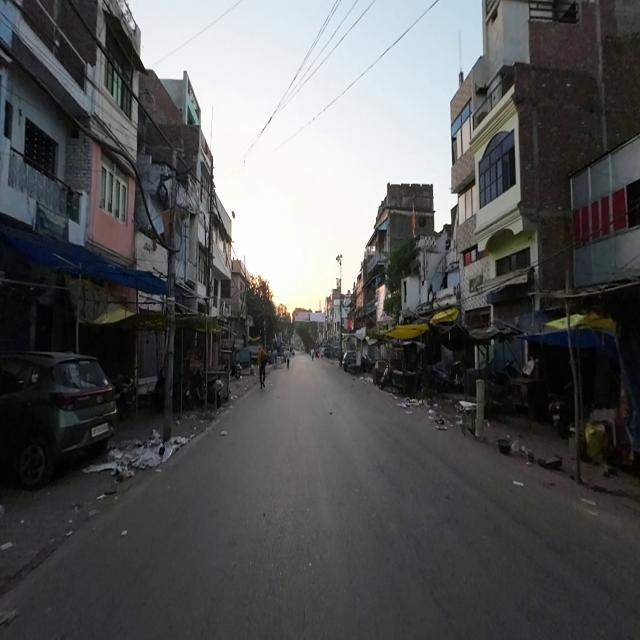Garbage: (109, 433, 190, 477)
